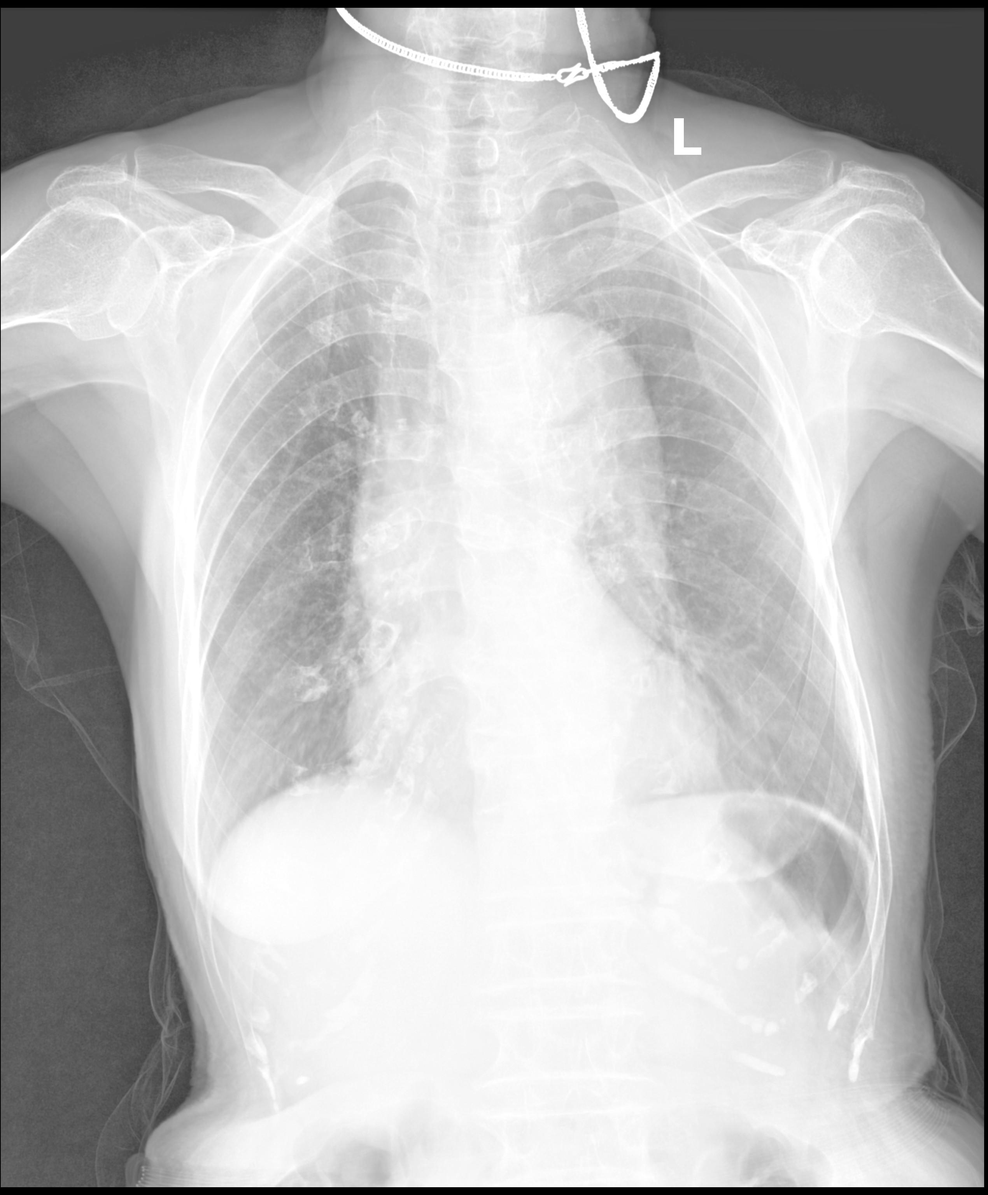Aortic enlargement: (488, 317, 664, 513)
